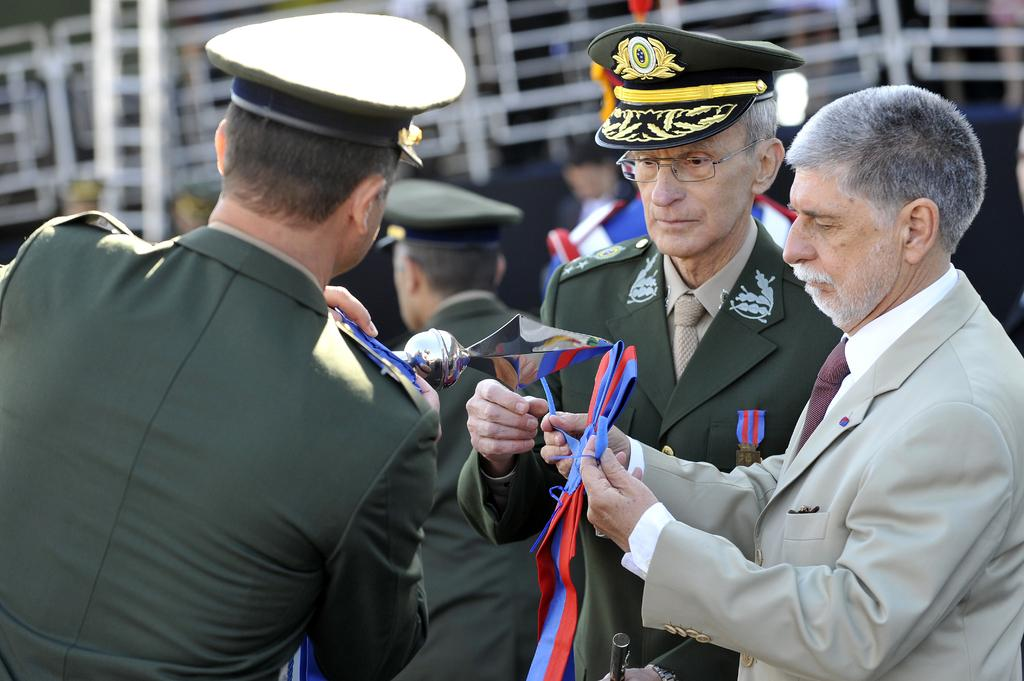Hat: (204, 11, 466, 172), (588, 20, 808, 150), (377, 178, 522, 254)
